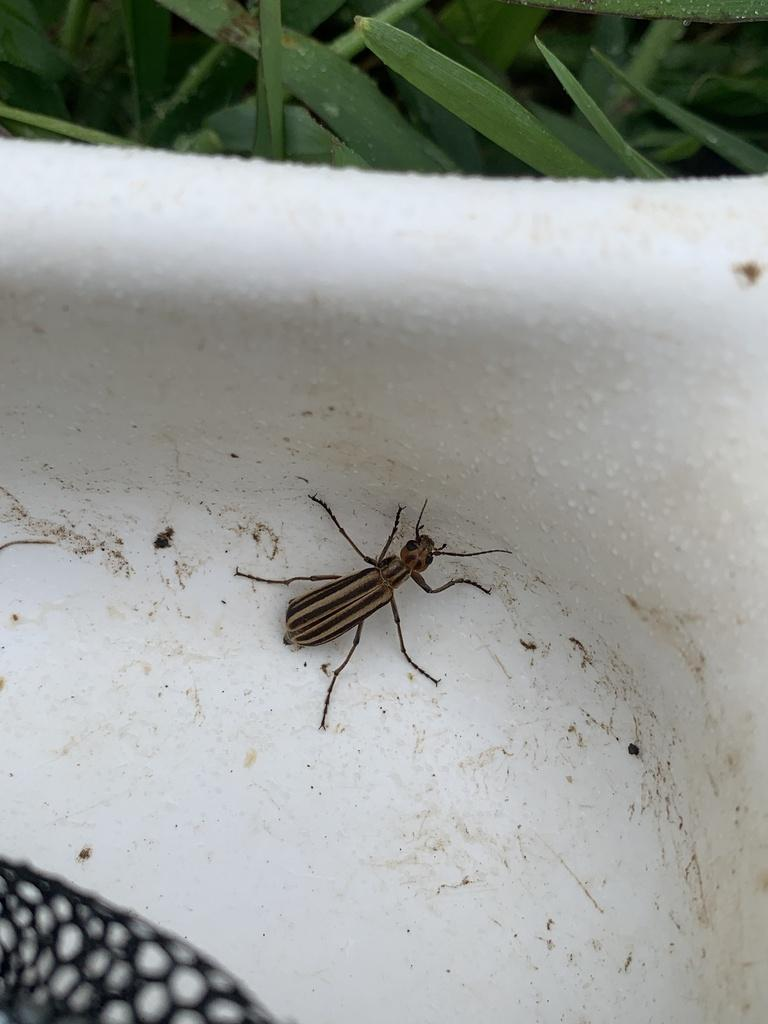blister_beetle: (212, 461, 524, 753)
